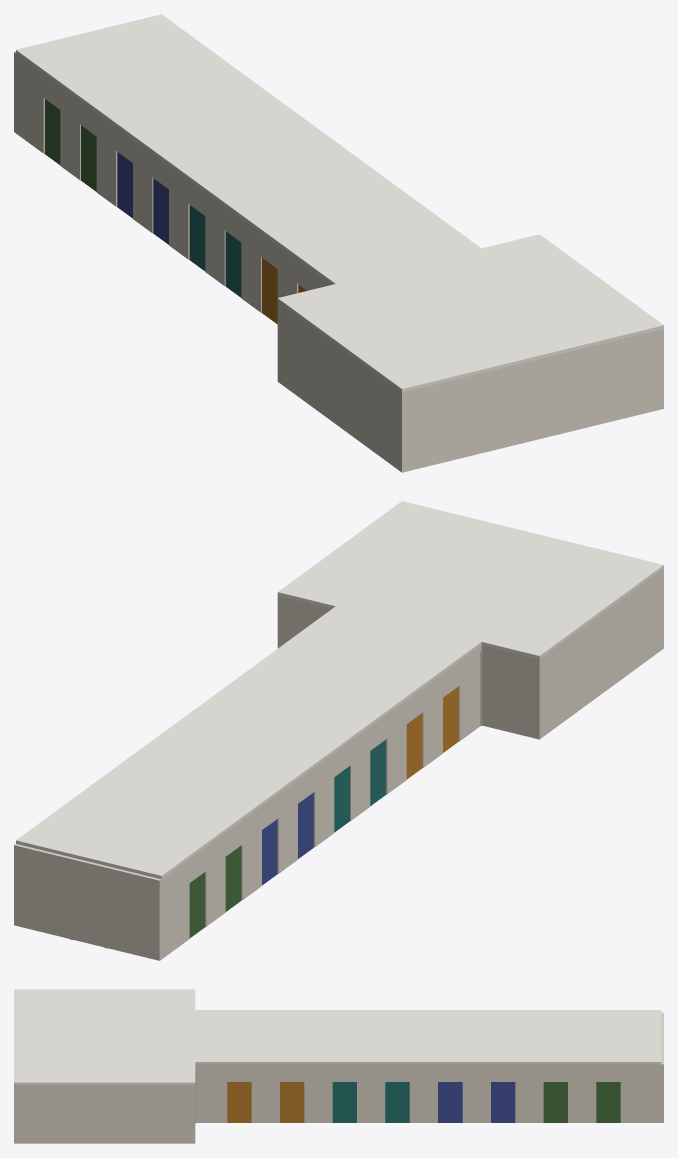
File: the-office.glb
3 views of the same model, one above another, from view 1: azimuth 30°, elevation 25°; view 2: azimuth 150°, elevation 25°; view 3: azimuth 270°, elevation 25° (orthographic). The views are drawn at different scales.
Parts seen in each view (by area): view 1: walls, ROOF_corridor, ROOF_office, door_leaf_door_1, door_leaf_door_2, door_leaf_door_3, door_leaf_door_0; view 2: ROOF_corridor, walls, ROOF_office, door_leaf_door_0, door_leaf_door_3, door_leaf_door_2, door_leaf_door_1; view 3: walls, ROOF_corridor, ROOF_office, door_leaf_door_0, door_leaf_door_1, door_leaf_door_2, door_leaf_door_3.
Part boxes in pixels (x1,y1,x2,y2): walls: (14, 51, 663, 472); ROOF_corridor: (16, 14, 482, 284); ROOF_office: (277, 234, 663, 392); door_leaf_door_1: (189, 205, 241, 297); door_leaf_door_2: (117, 152, 168, 244); door_leaf_door_3: (44, 99, 96, 191); door_leaf_door_0: (261, 258, 306, 324); ROOF_corridor: (16, 605, 481, 879); walls: (14, 568, 663, 960); ROOF_office: (277, 501, 663, 659); door_leaf_door_0: (406, 687, 458, 779); door_leaf_door_3: (189, 846, 241, 938); door_leaf_door_2: (262, 792, 313, 885); door_leaf_door_1: (334, 740, 386, 832); walls: (14, 1012, 663, 1143); ROOF_corridor: (192, 1010, 661, 1064); ROOF_office: (14, 989, 195, 1084); door_leaf_door_0: (227, 1082, 304, 1122); door_leaf_door_1: (332, 1082, 409, 1122); door_leaf_door_2: (438, 1082, 515, 1122); door_leaf_door_3: (543, 1082, 620, 1122).
Size of the model in its own units: 11.28 by 3.54 by 33.28.
